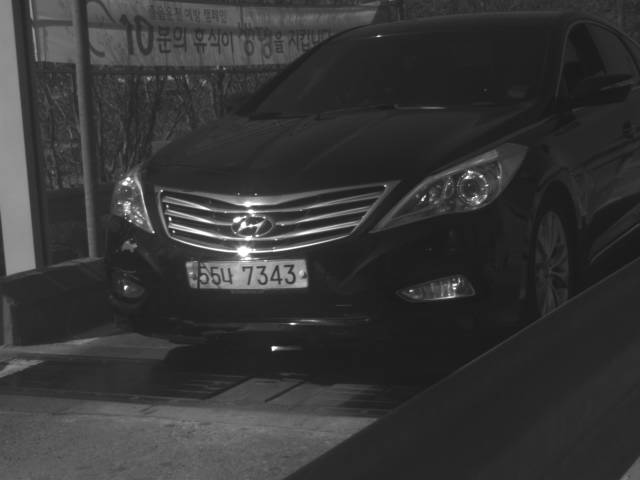car: (102, 1, 639, 347)
plate: (182, 257, 314, 293)
